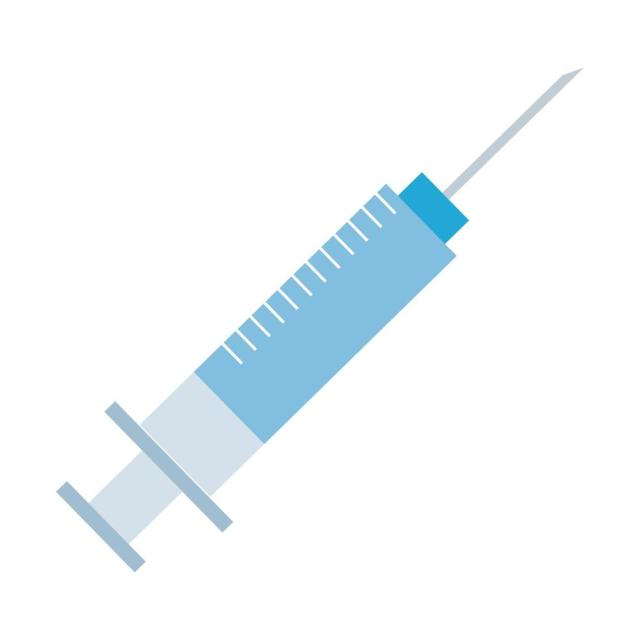syringe: (55, 65, 584, 572)
